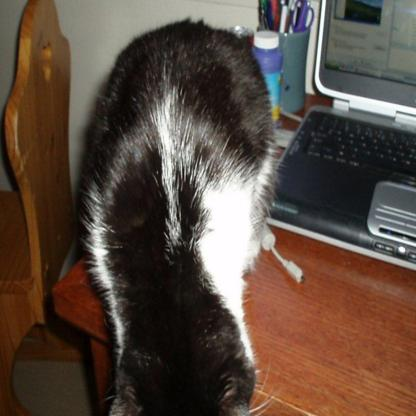board: (265, 0, 416, 273), (251, 31, 280, 134)
